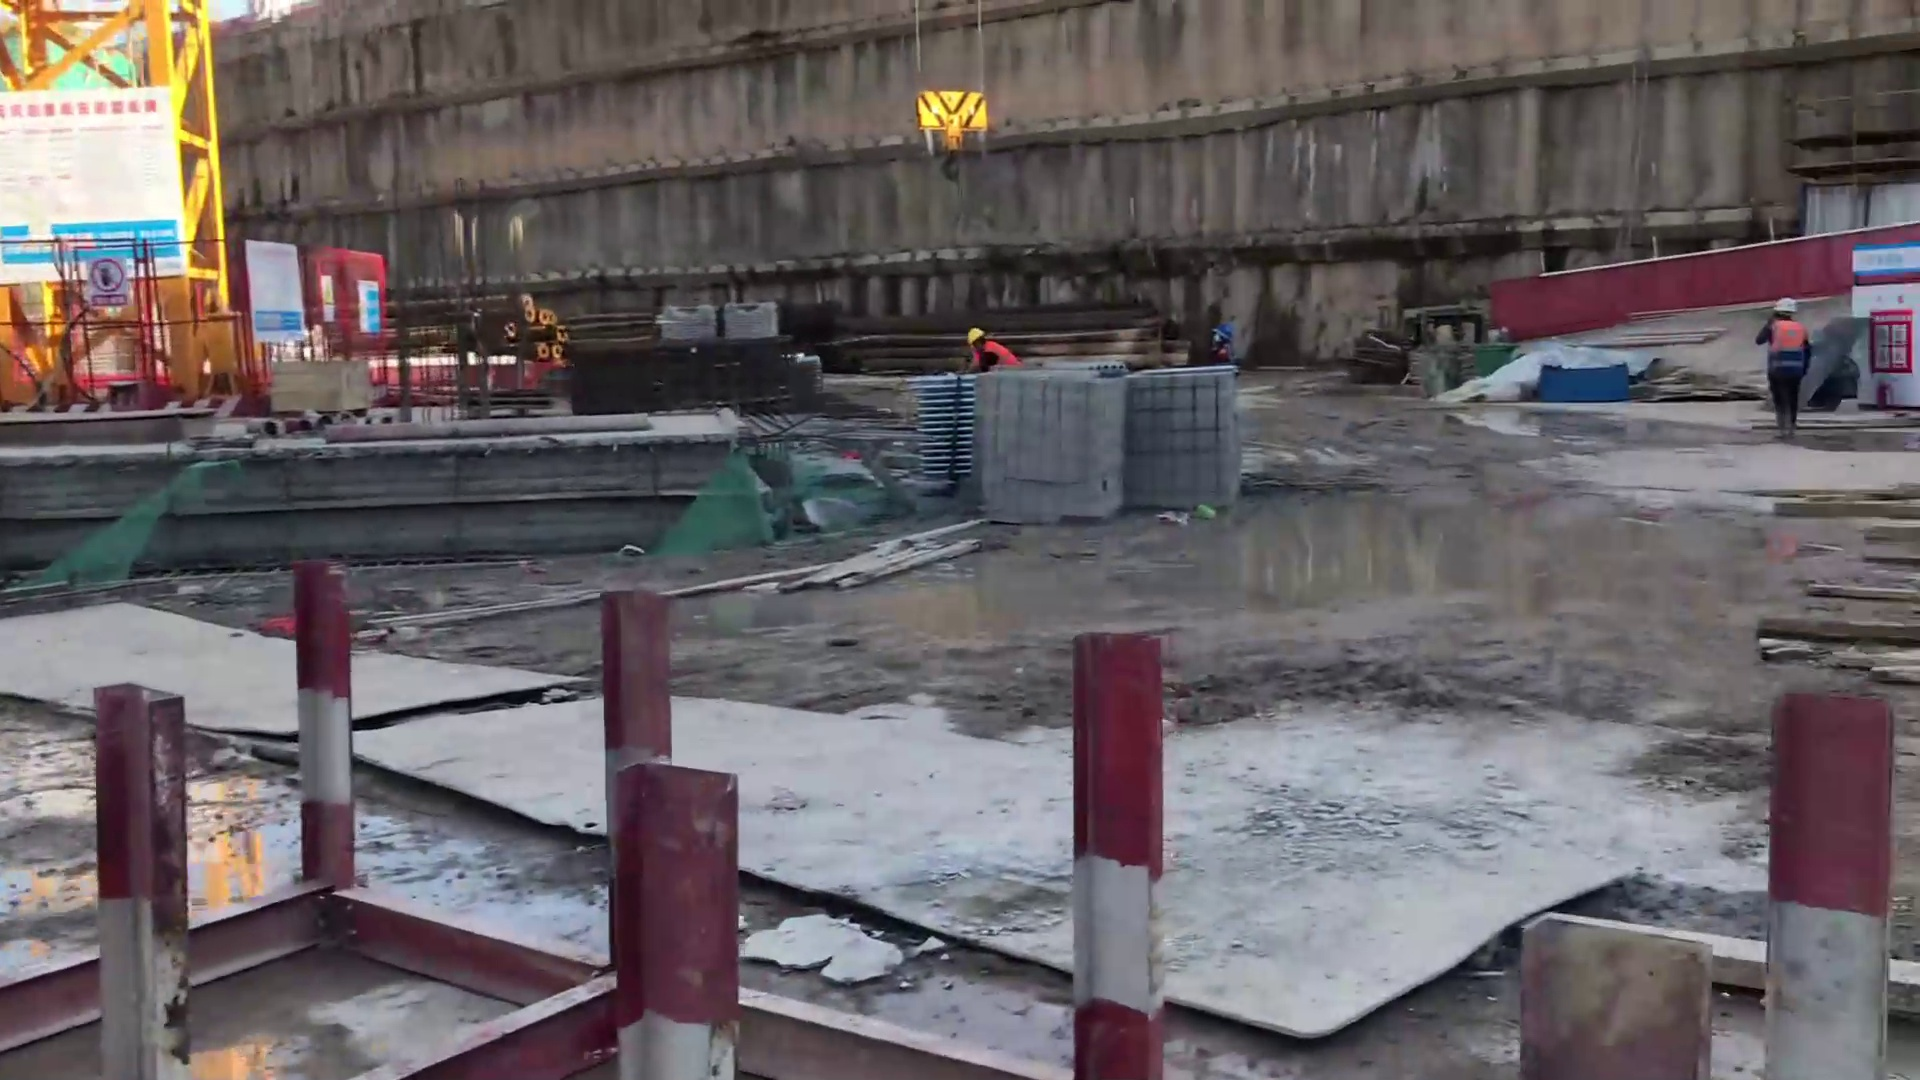helmet: (953, 314, 994, 345), (1774, 287, 1803, 314)
hook: (916, 80, 1001, 179)
scaffold: (894, 356, 1000, 481)
vest: (1762, 309, 1805, 376)
